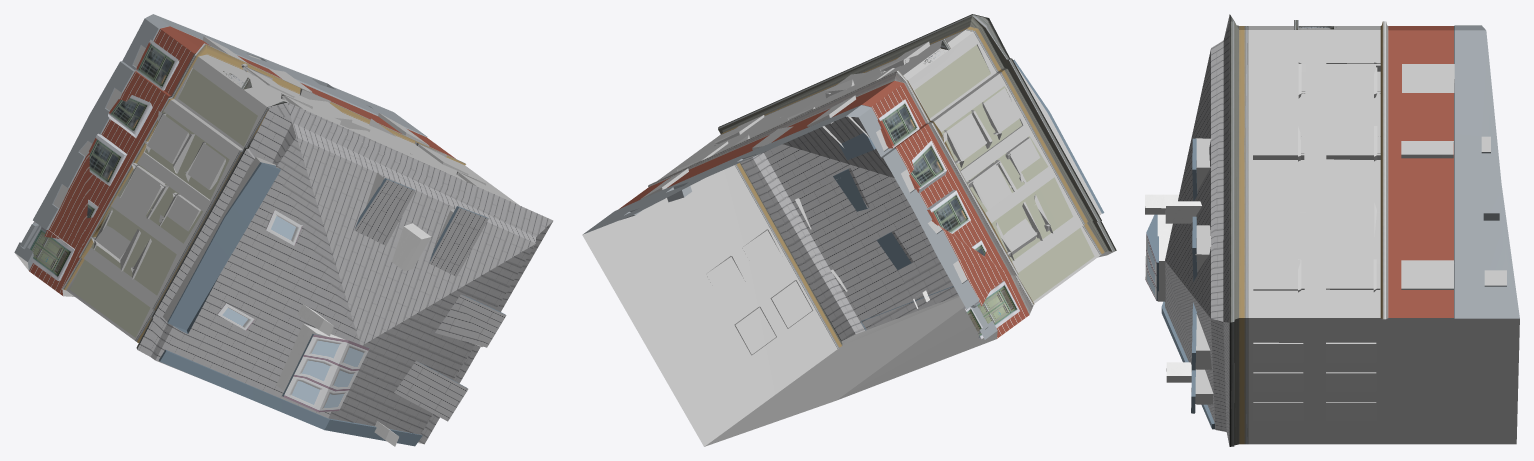
The model's file is Pikk_48-origo.obj.
The picture shows the model from 3 angles, left to right: view 1: azimuth 30°, elevation 25°; view 2: azimuth 150°, elevation 25°; view 3: azimuth 270°, elevation 25°; orthographic projection. The views are drawn at different scales.
Visible parts, largest first — view 1: Pikk_48; view 2: Pikk_48; view 3: Pikk_48.
Part boxes in pixels (x1,y1,x2,y2): Pikk_48: (14, 14, 553, 446); Pikk_48: (582, 14, 1116, 446); Pikk_48: (1145, 14, 1519, 446).
Bounding box in the file's own units: 23.81 × 20.5 × 19.32.
